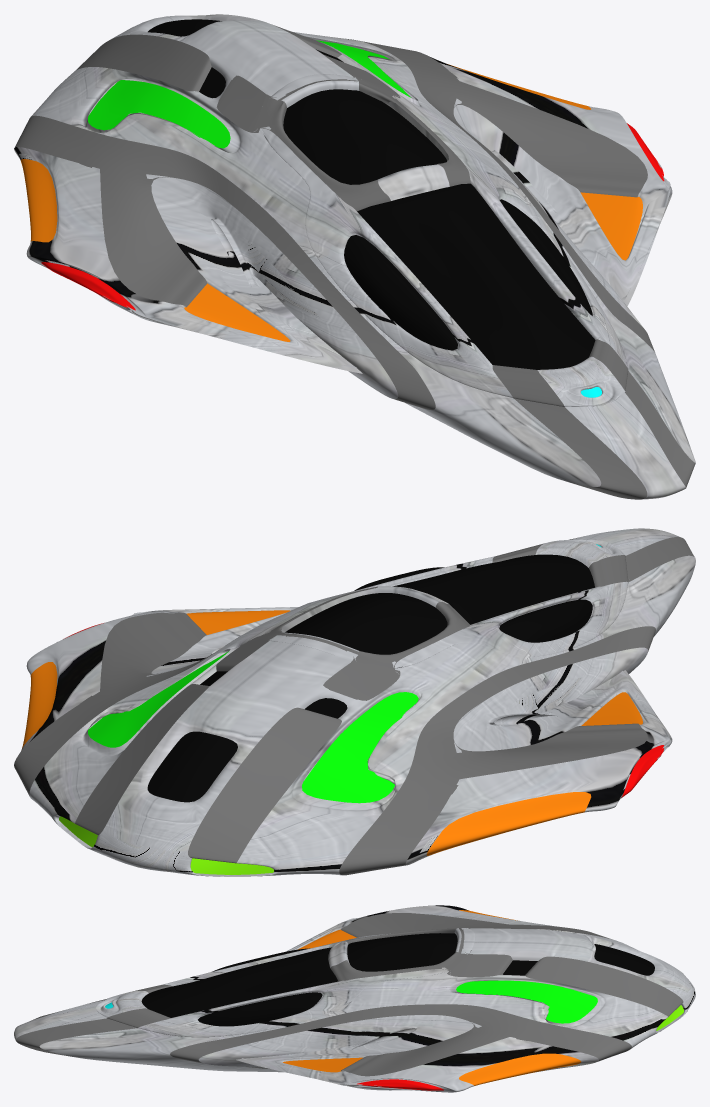
The model's file is stunt_glyder.obj.
The picture shows the model from 3 angles, top to bottom: view 1: azimuth 30°, elevation 25°; view 2: azimuth 150°, elevation 25°; view 3: azimuth 270°, elevation 25°; orthographic projection. The views are drawn at different scales.
Parts seen in each view (by area): view 1: stunt glyder; view 2: stunt glyder; view 3: stunt glyder.
Part boxes in pixels (x1,y1,x2,y2): stunt glyder: (14, 14, 695, 499); stunt glyder: (14, 528, 695, 876); stunt glyder: (14, 905, 695, 1092).
Size of the model in its own units: 171 by 53.29 by 269.
